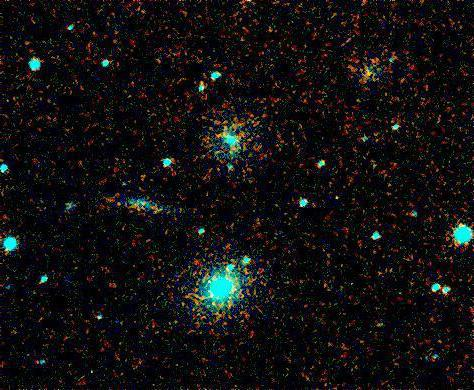star: (192, 63, 222, 93)
